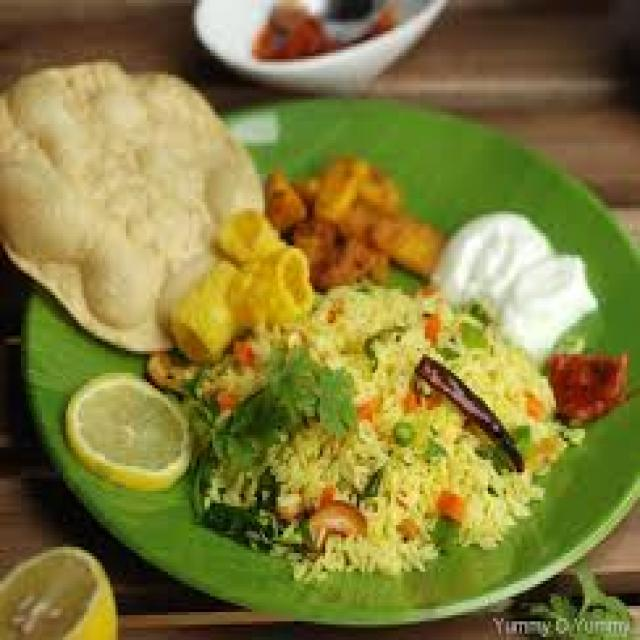PAPADAM: (5, 66, 319, 353)
PICKLE: (546, 352, 630, 427)
RICE: (183, 295, 582, 568)
